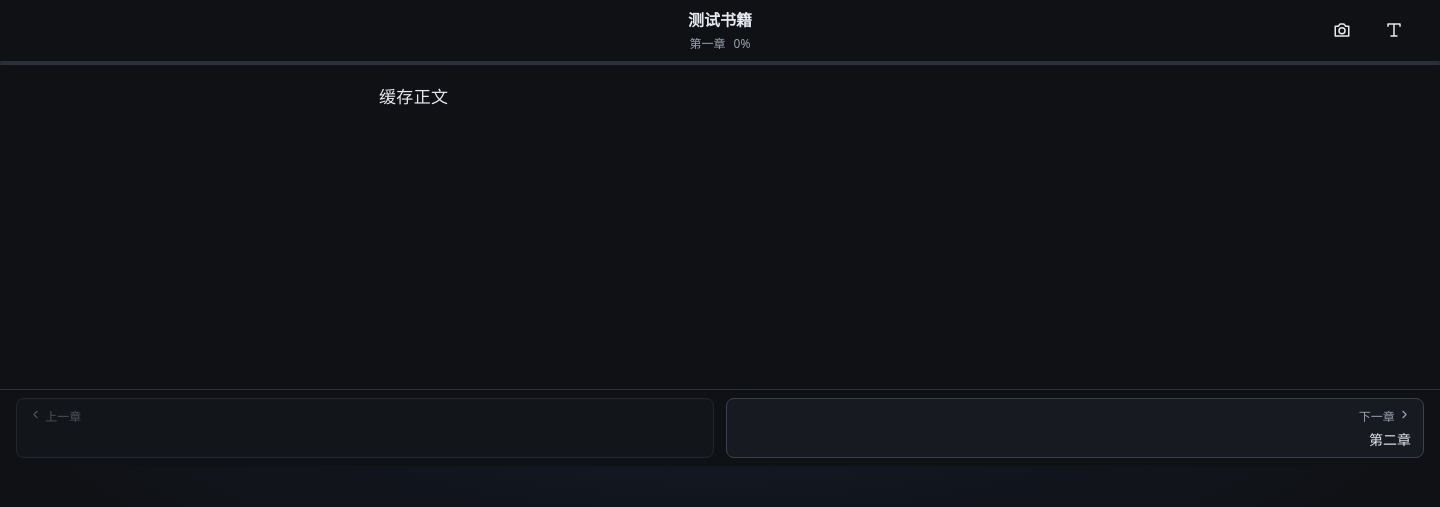
Test: keeps successful chapter content cached across navigation
Expected: the text "缓存正文" is shown, [379,88,448,107]
Click the button "下一章 第二章" at (1377, 416), box [726,398,1424,458]
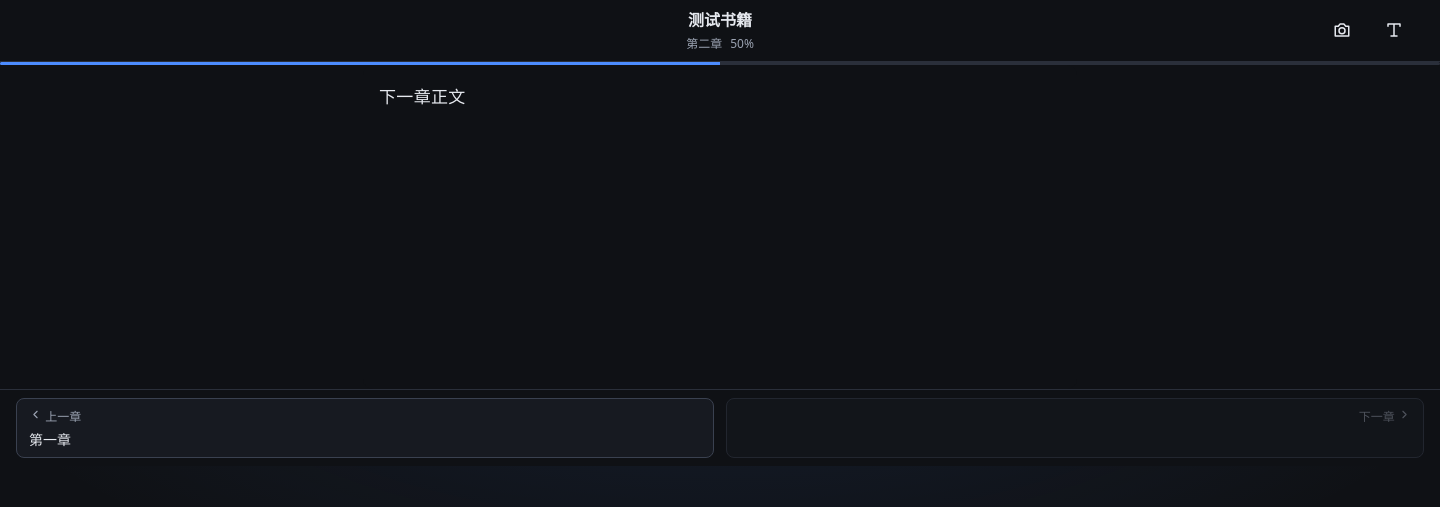
Expected: the text "下一章正文" is shown, [379,88,466,107]
Click the button "上一章 第一章" at (63, 416), box [16,398,714,458]
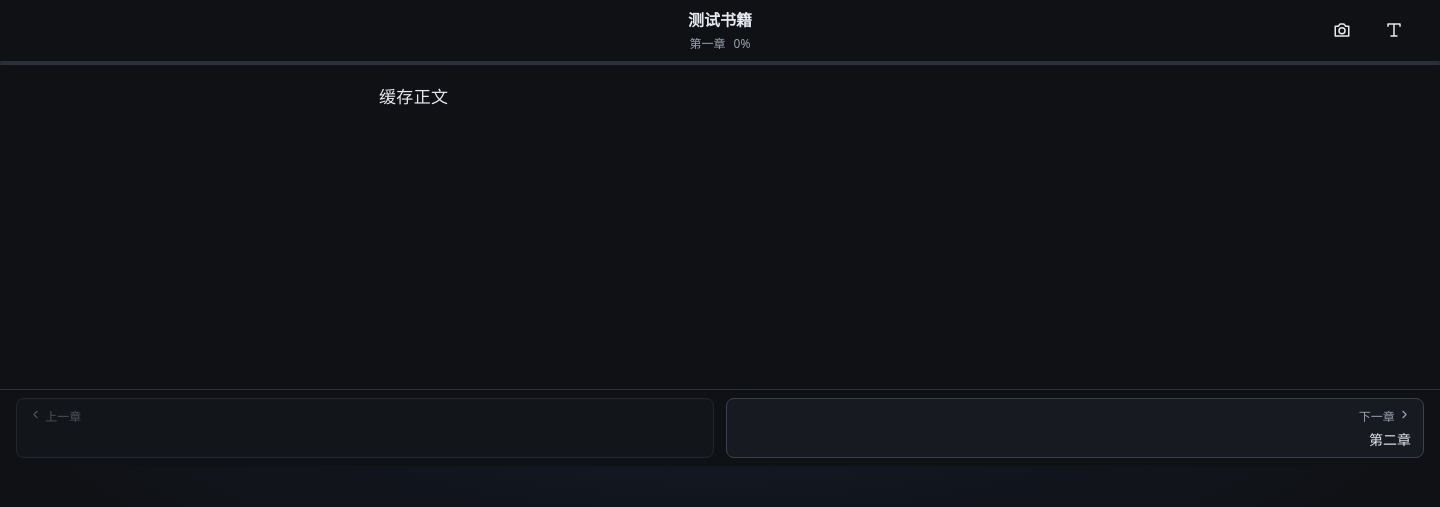
Expected: the text "缓存正文" is shown, [379,88,448,107]
